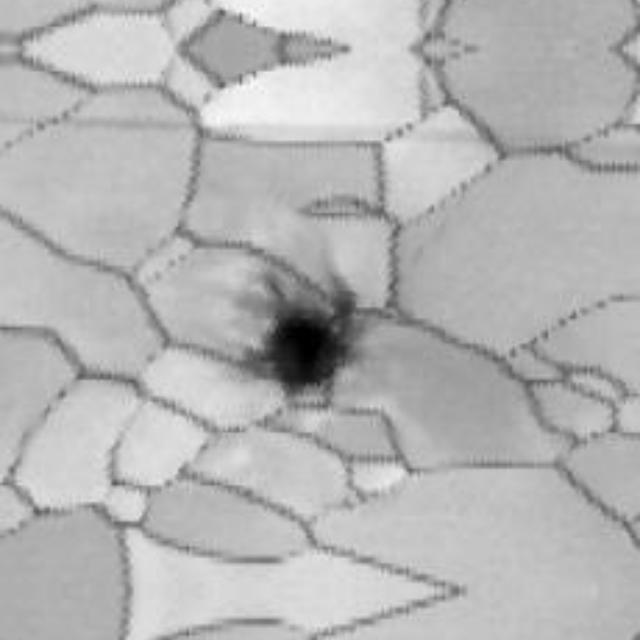good_void: (236, 265, 373, 408)
